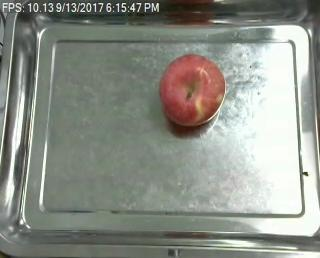apple: (158, 54, 226, 128)
